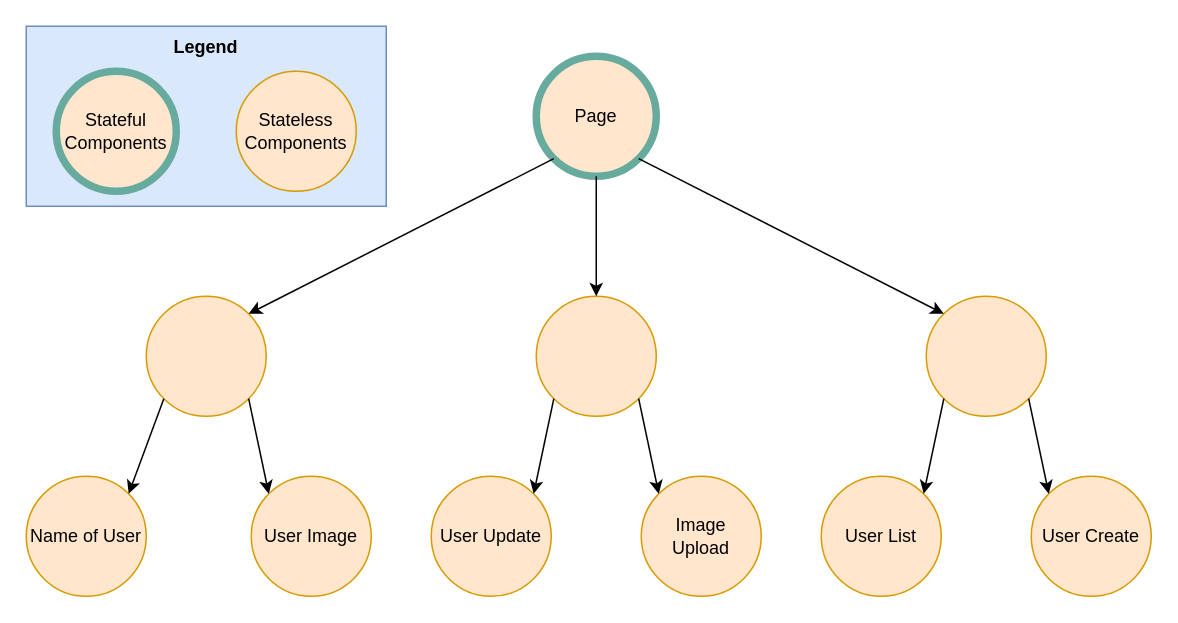
Image size: 1178x623. Some labels were removed from this diagram. The centre of each missing label's shape, as x and y in pixels:
Main Section: point 985,355
Navigation: point 205,355
Overlay: point 595,355
